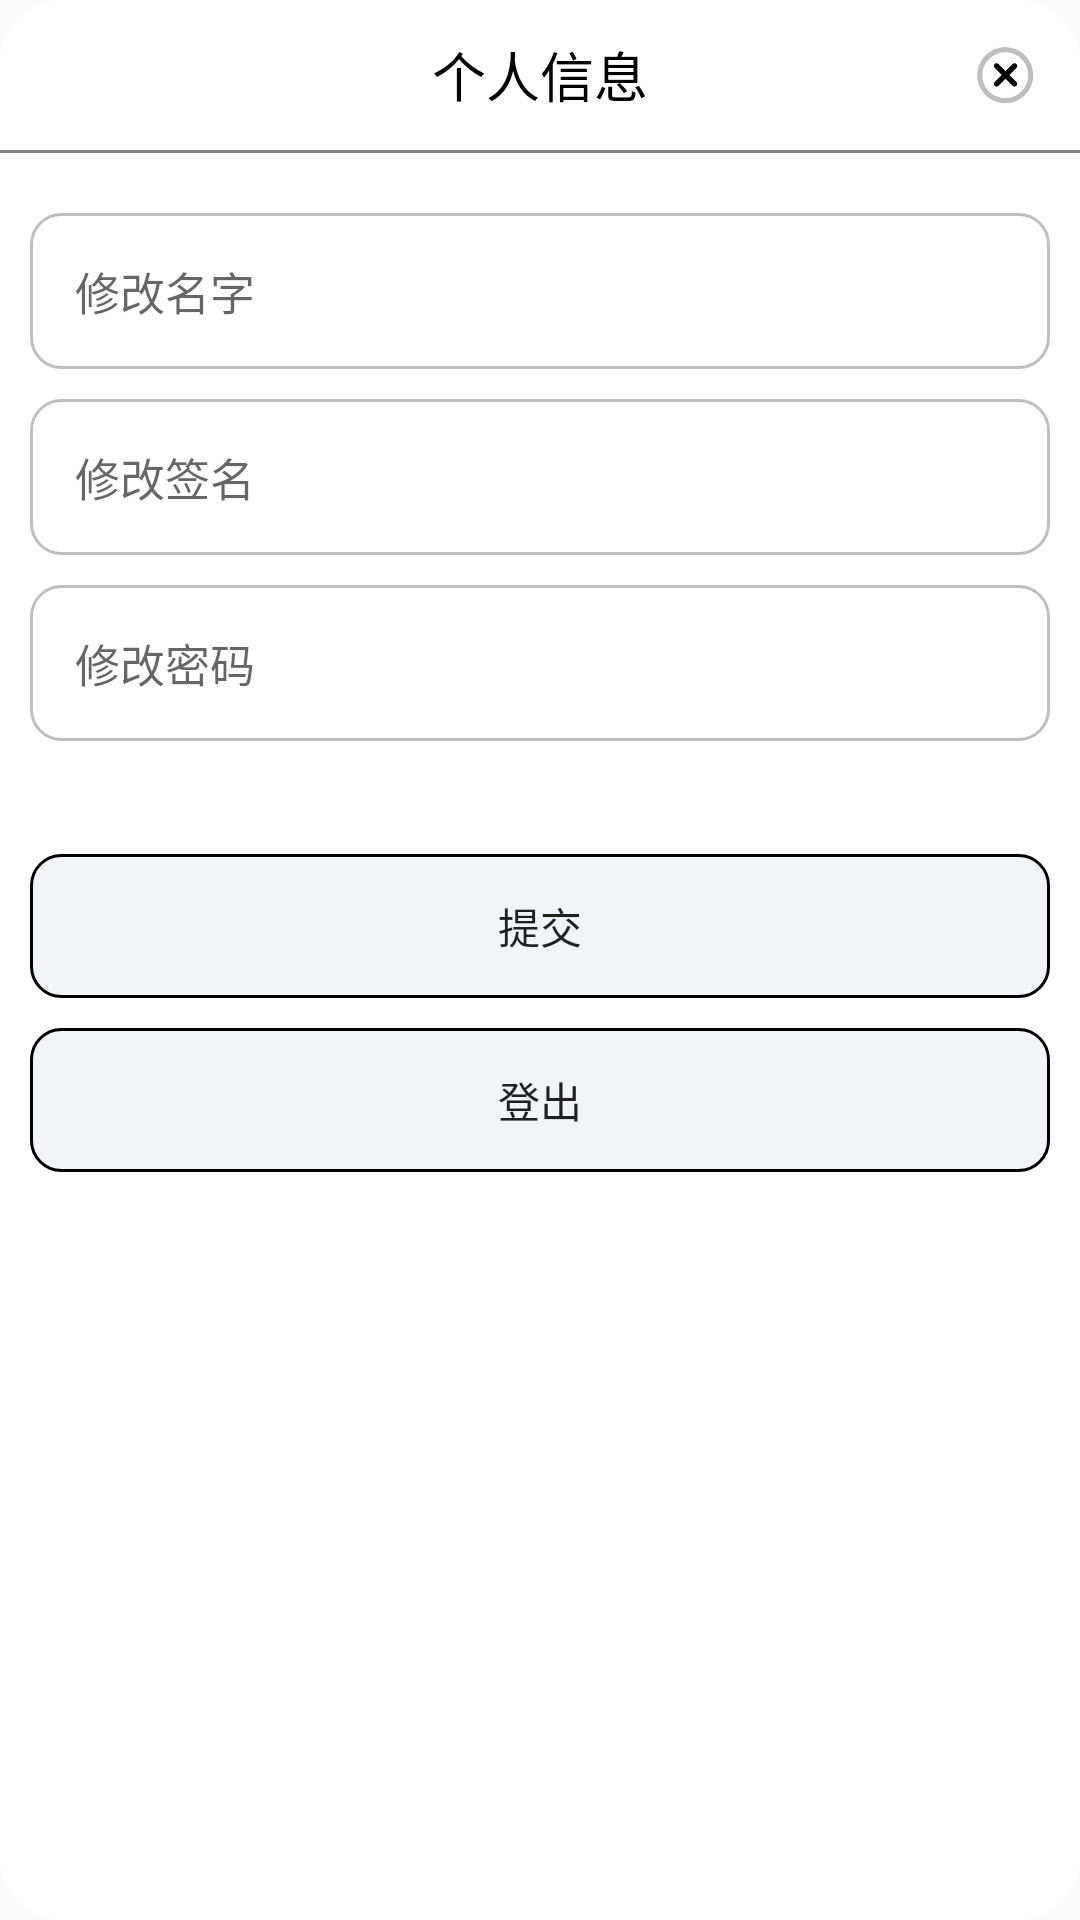

Icon bounding boxes for this 1080×1920 phone screenshot, format (x1, y1, x2, y2):
return: (977, 47, 1033, 103)
